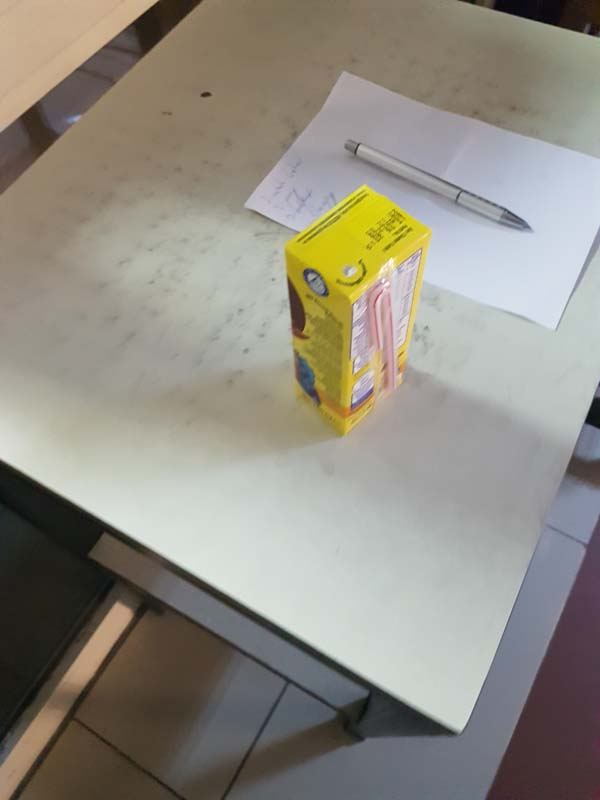nesquick200ml: (287, 184, 437, 447)
